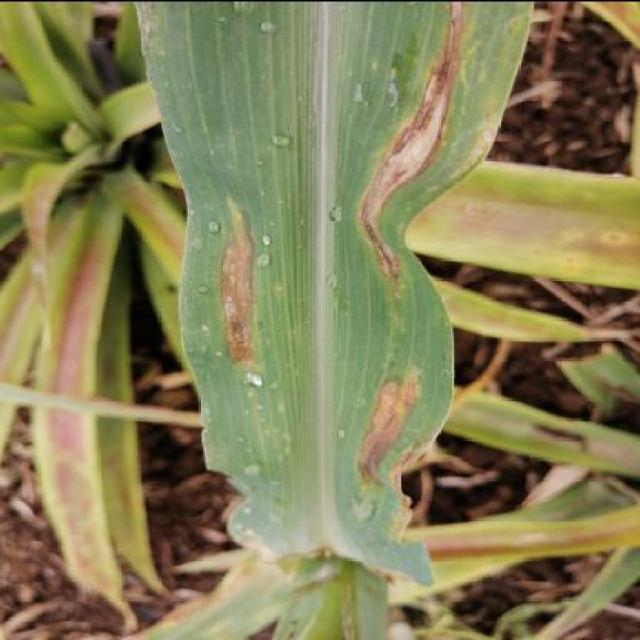Corn_Leaf_Blight: (142, 0, 538, 597)
